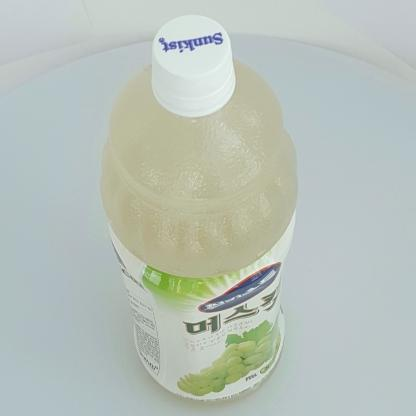-------1-5L: (101, 14, 298, 406)
